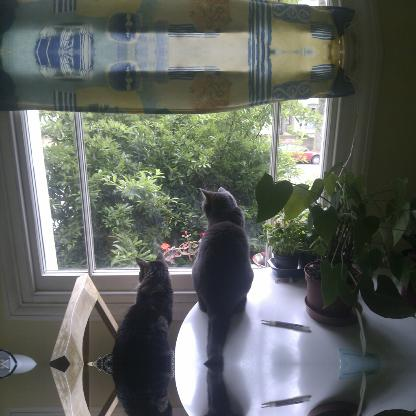Cat: (187, 186, 253, 362), (109, 252, 177, 362), (109, 365, 178, 415), (187, 365, 254, 415)
